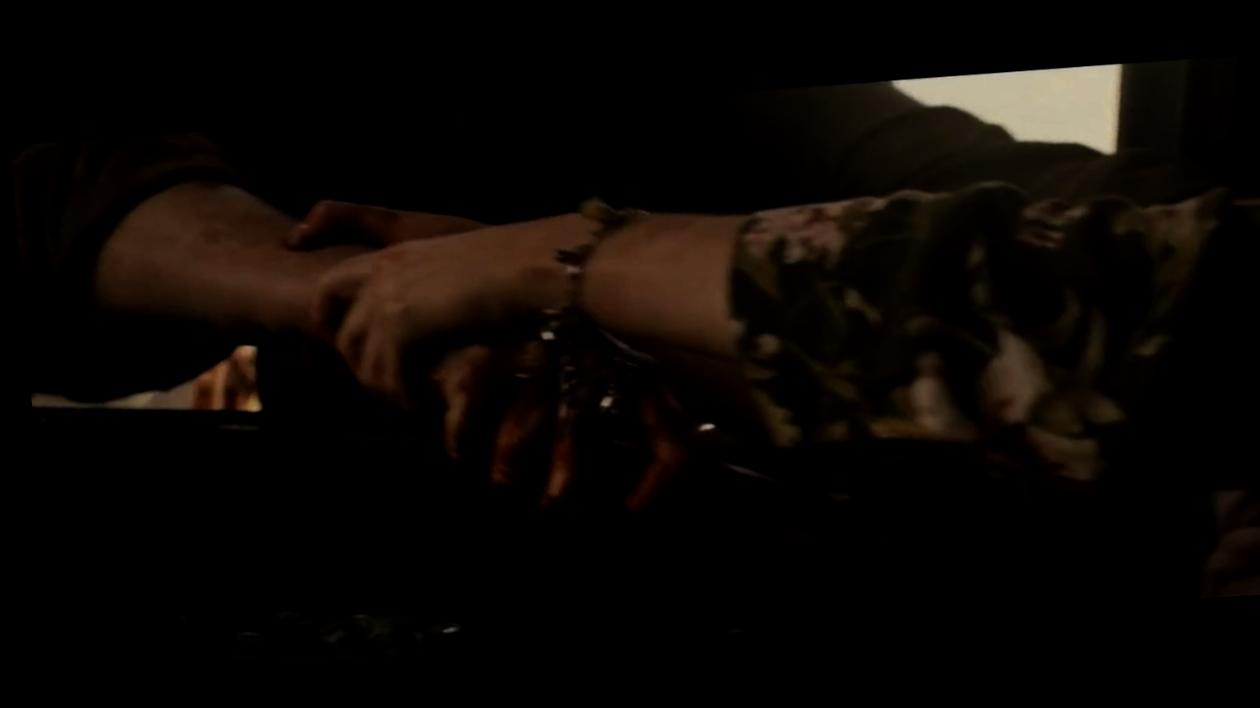Fire: (446, 338, 693, 524)
